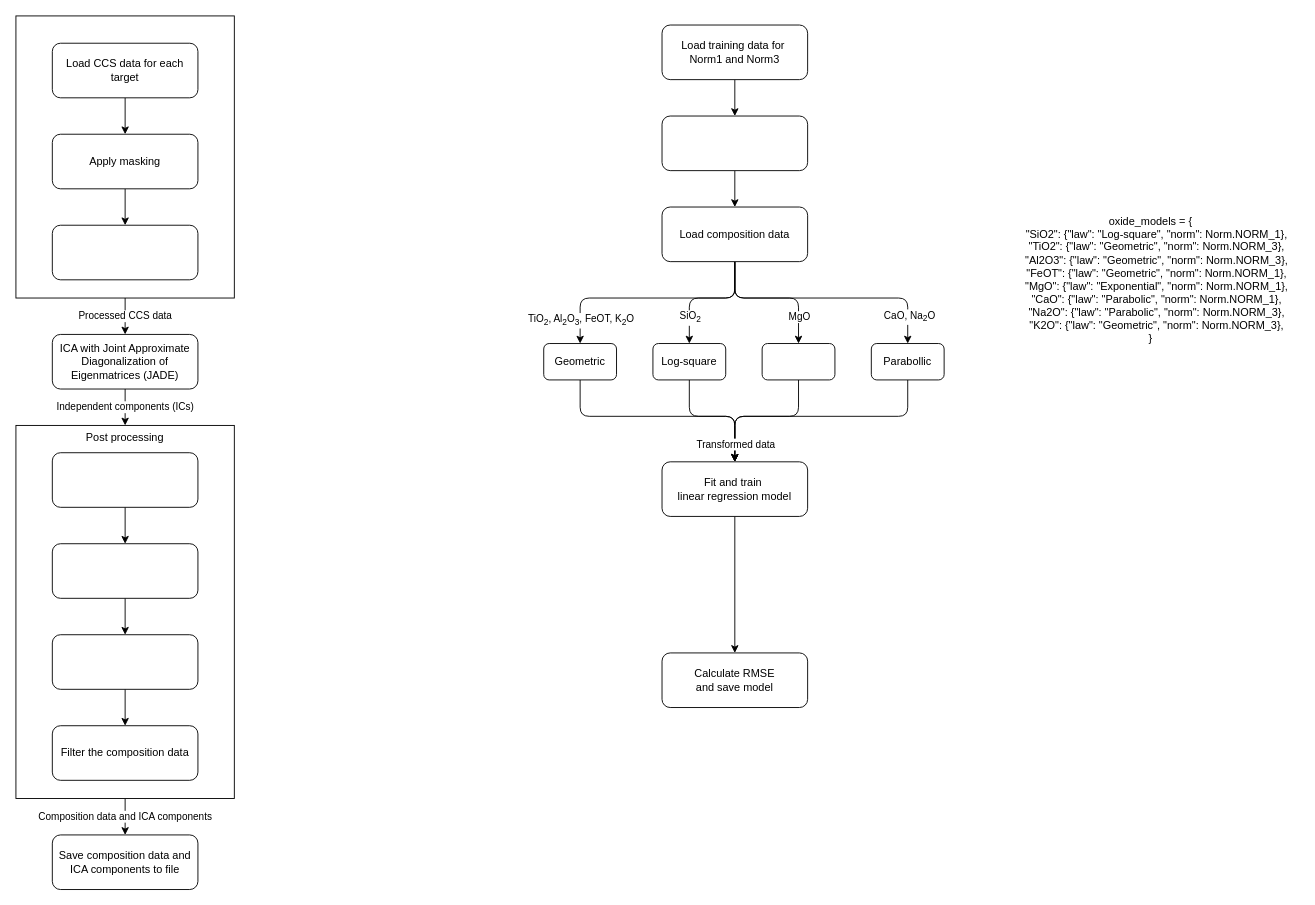
Image size: 1315x905. Some labels were removed from this diagram. The box of each missing label's shape, as (x1, y1, x2, y2) in pixels:
Compute correlation matrix between ICs and wavelengths: (51, 452, 198, 507)
Create matrix with most highly correlated component for each wavelength: (51, 634, 198, 689)
Exponential: (761, 343, 835, 380)
Identify most highly correlated component for each wavelength: (51, 543, 198, 598)
Normalize (Norm1 or Norm3): (51, 224, 198, 280)
Preprocessing: (15, 15, 234, 298)
Split training data: (661, 115, 808, 171)
